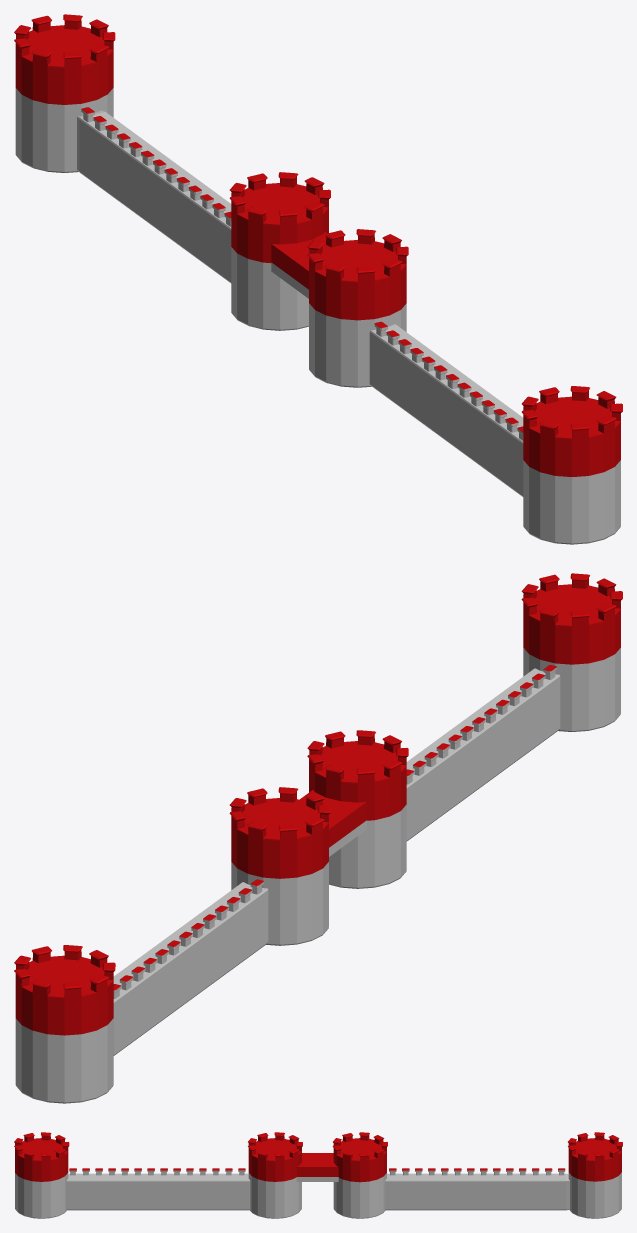
Rendered from Wall.obj.
3 views of the same model, one above another, from view 1: azimuth 30°, elevation 25°; view 2: azimuth 150°, elevation 25°; view 3: azimuth 270°, elevation 25° (orthographic). The views are drawn at different scales.
Visible parts, largest first — view 1: wall2; view 2: wall2; view 3: wall2.
Part boxes in pixels (x1,y1,x2,y2): wall2: (14,14,622,544); wall2: (14,573,622,1103); wall2: (14,1132,622,1218).
Size of the model in its own units: 216 by 271 by 2346.
